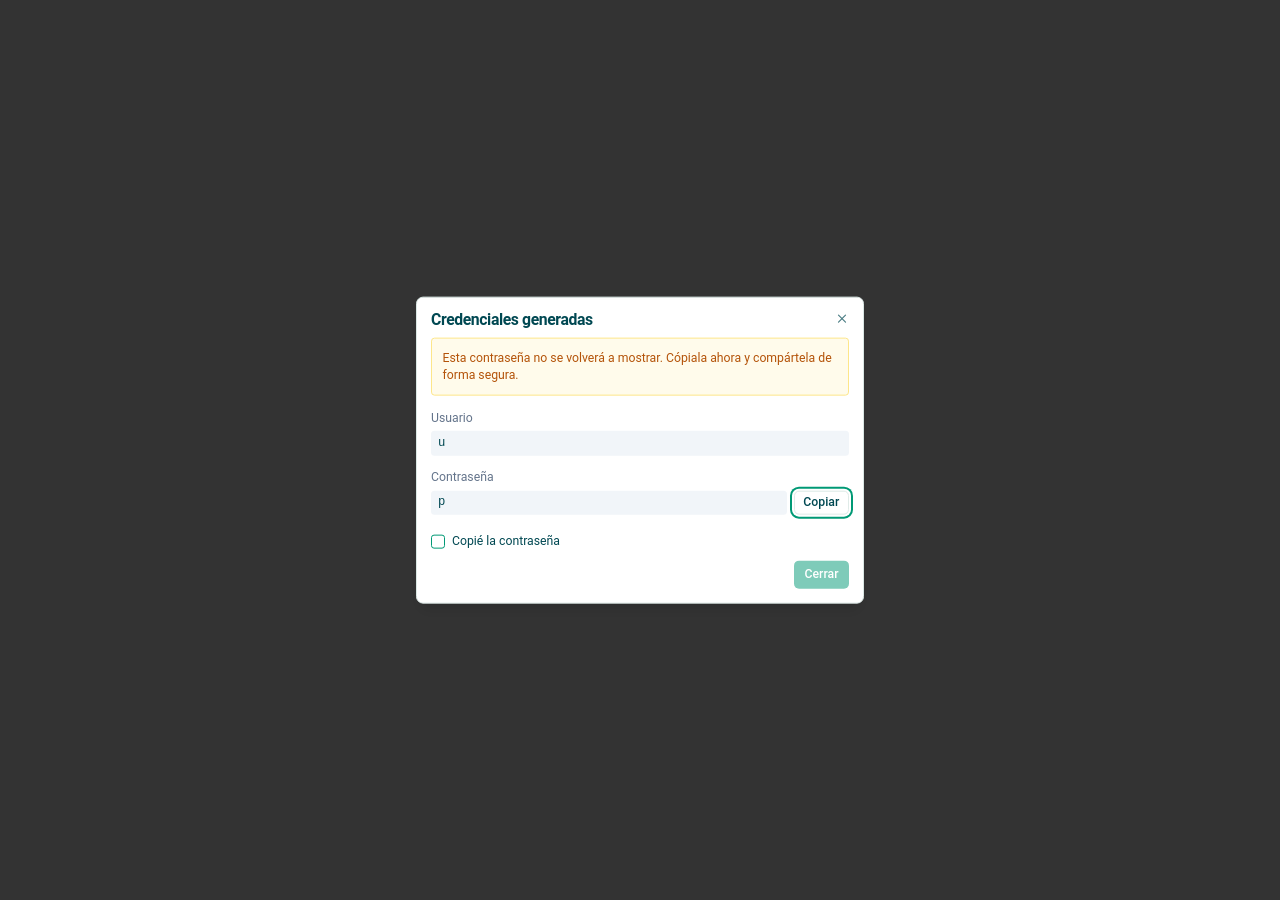
Test: PasswordRevealDialog › keeps "Cerrar" disabled until the confirmation checkbox is checked
Expected: the button "Cerrar" is disabled, [794,560,849,588]
Click the checkbox. click: (438, 541)
box: [431,534,445,548]
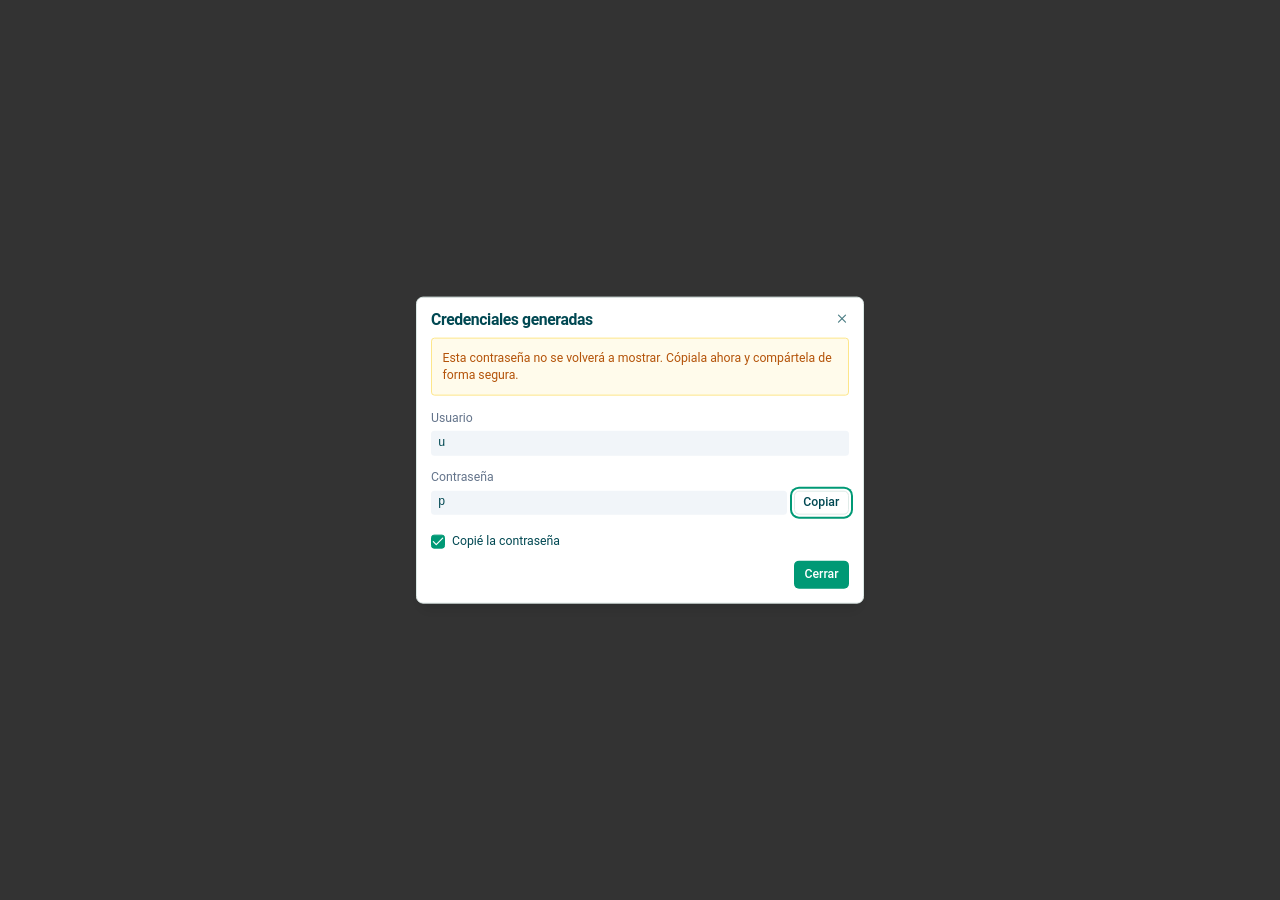
Result: the button "Cerrar" is enabled at [794,560,849,588]
